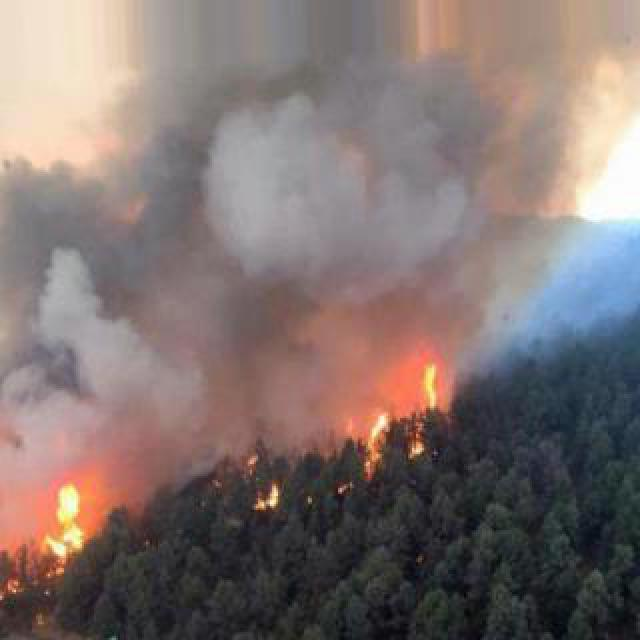Fire: (42, 472, 88, 562), (358, 402, 396, 468), (414, 344, 446, 420), (256, 454, 286, 514), (2, 548, 32, 608)
Smoke: (10, 6, 600, 436)
